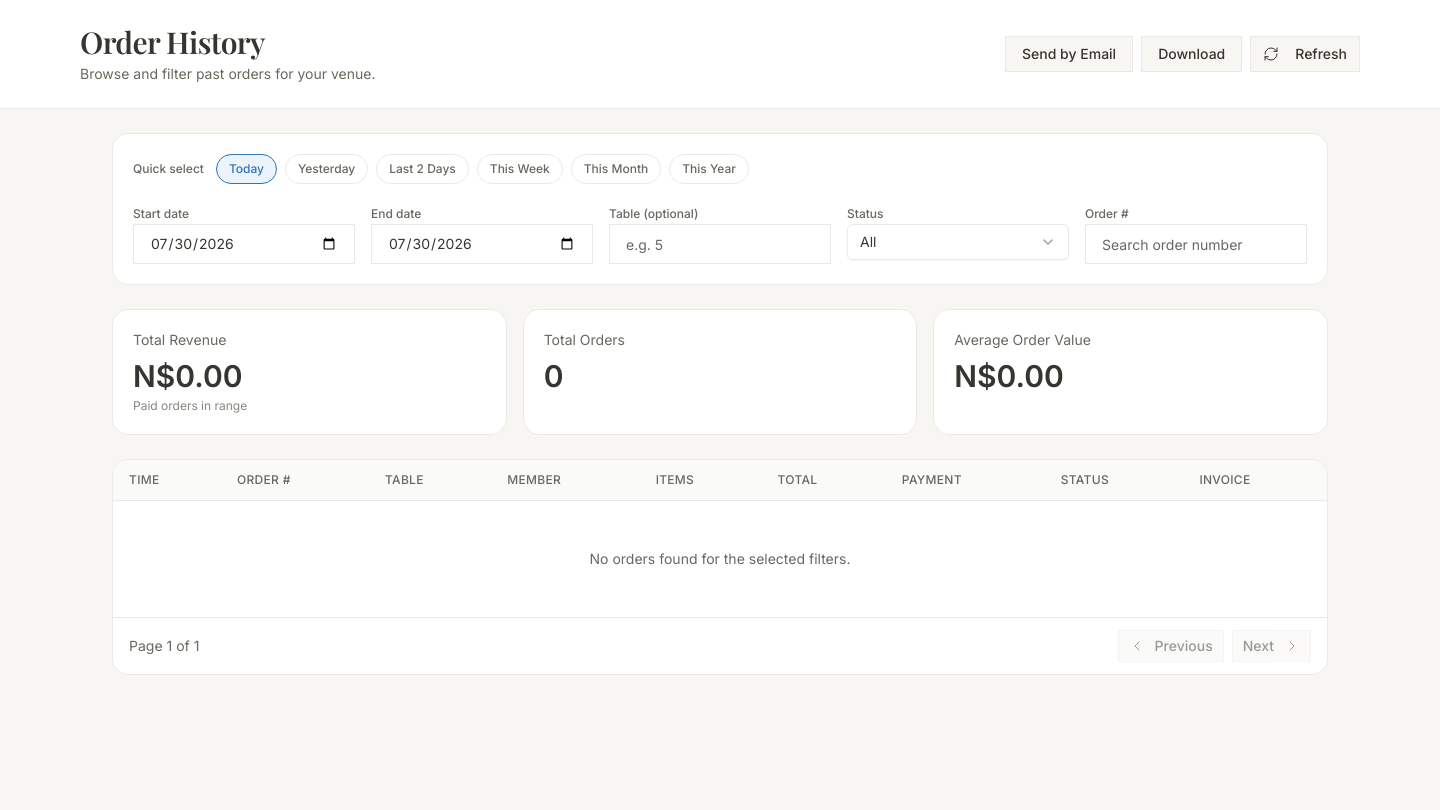
Test: quick-select presets › This Year populates both fields and refreshes the results
Click the button "This Year".
click(709, 169)  # box [669,154,749,184]
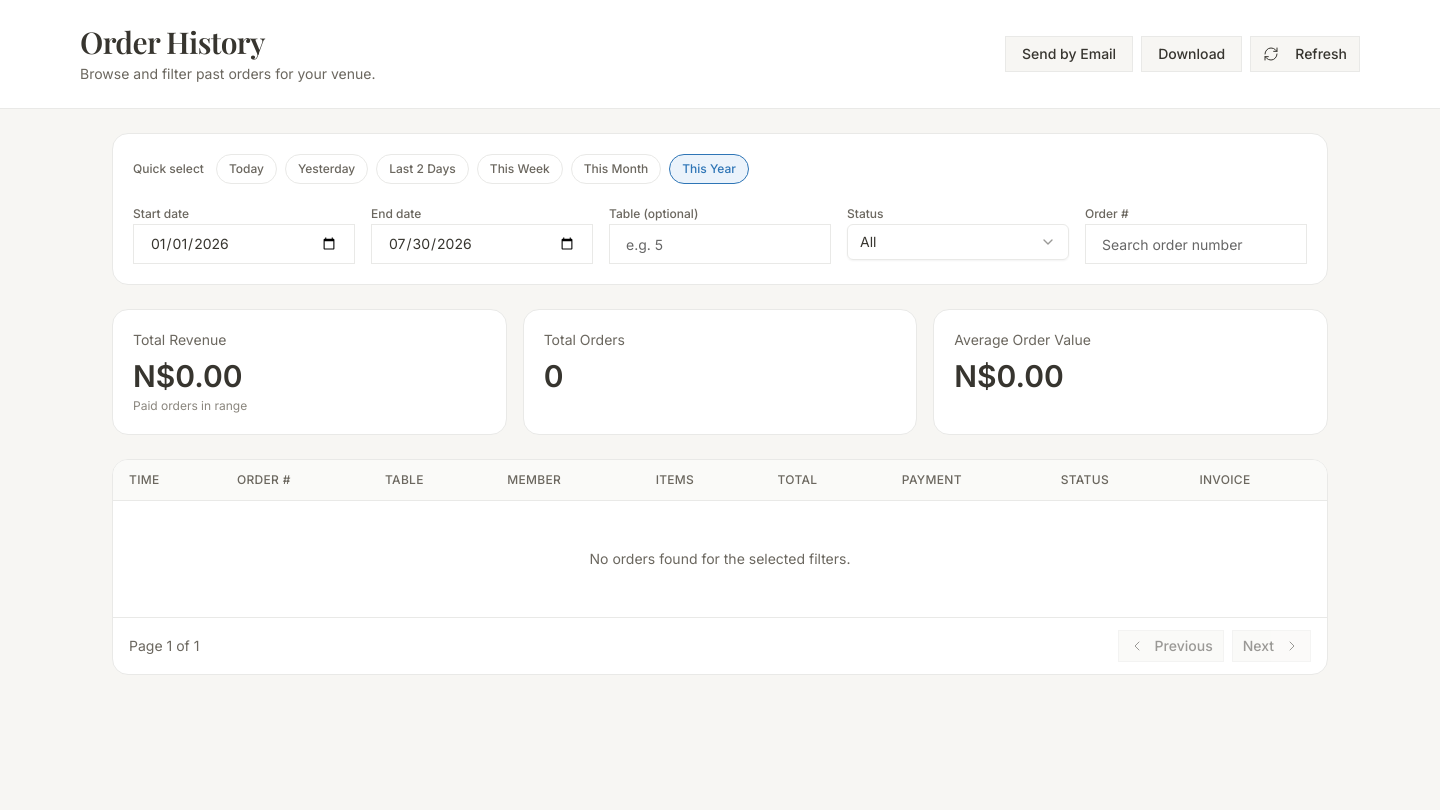
Expected: the date field below "End date" holds "2026-07-30", [371,224,593,264]
Result: the date field below "Start date" holds "2026-01-01" at [133,224,355,264]
